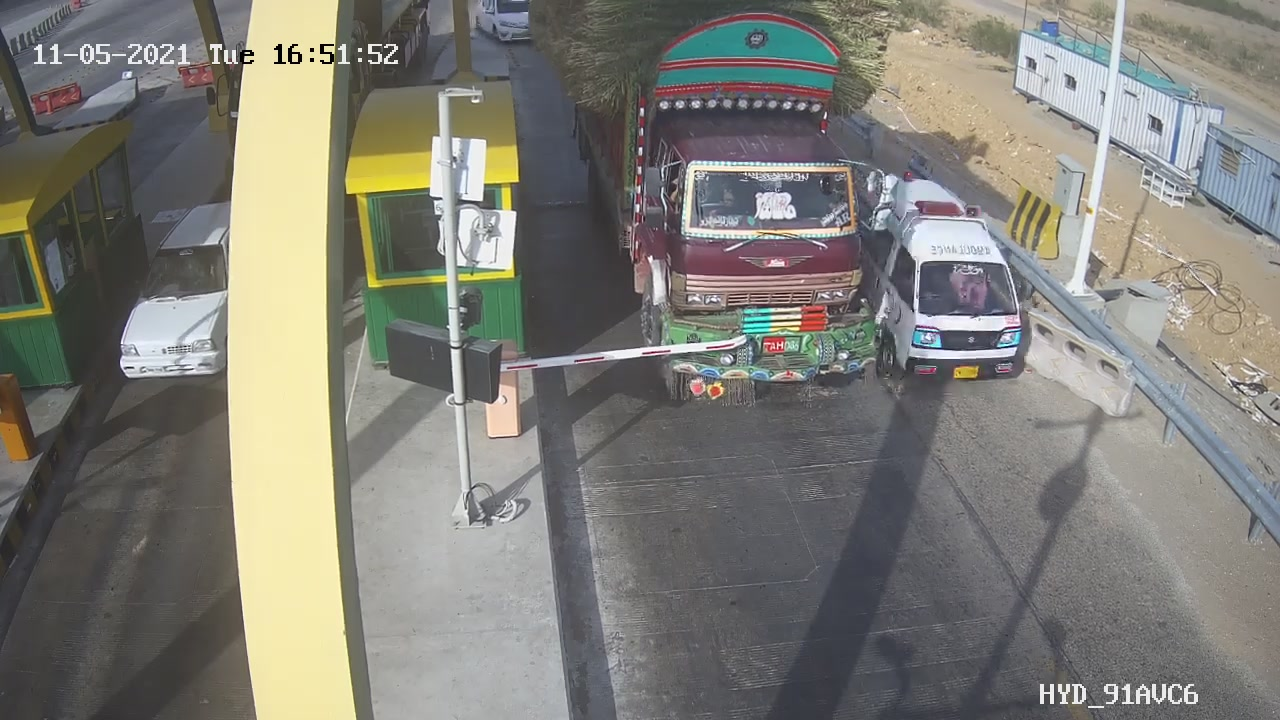F5: (548, 4, 913, 433)
